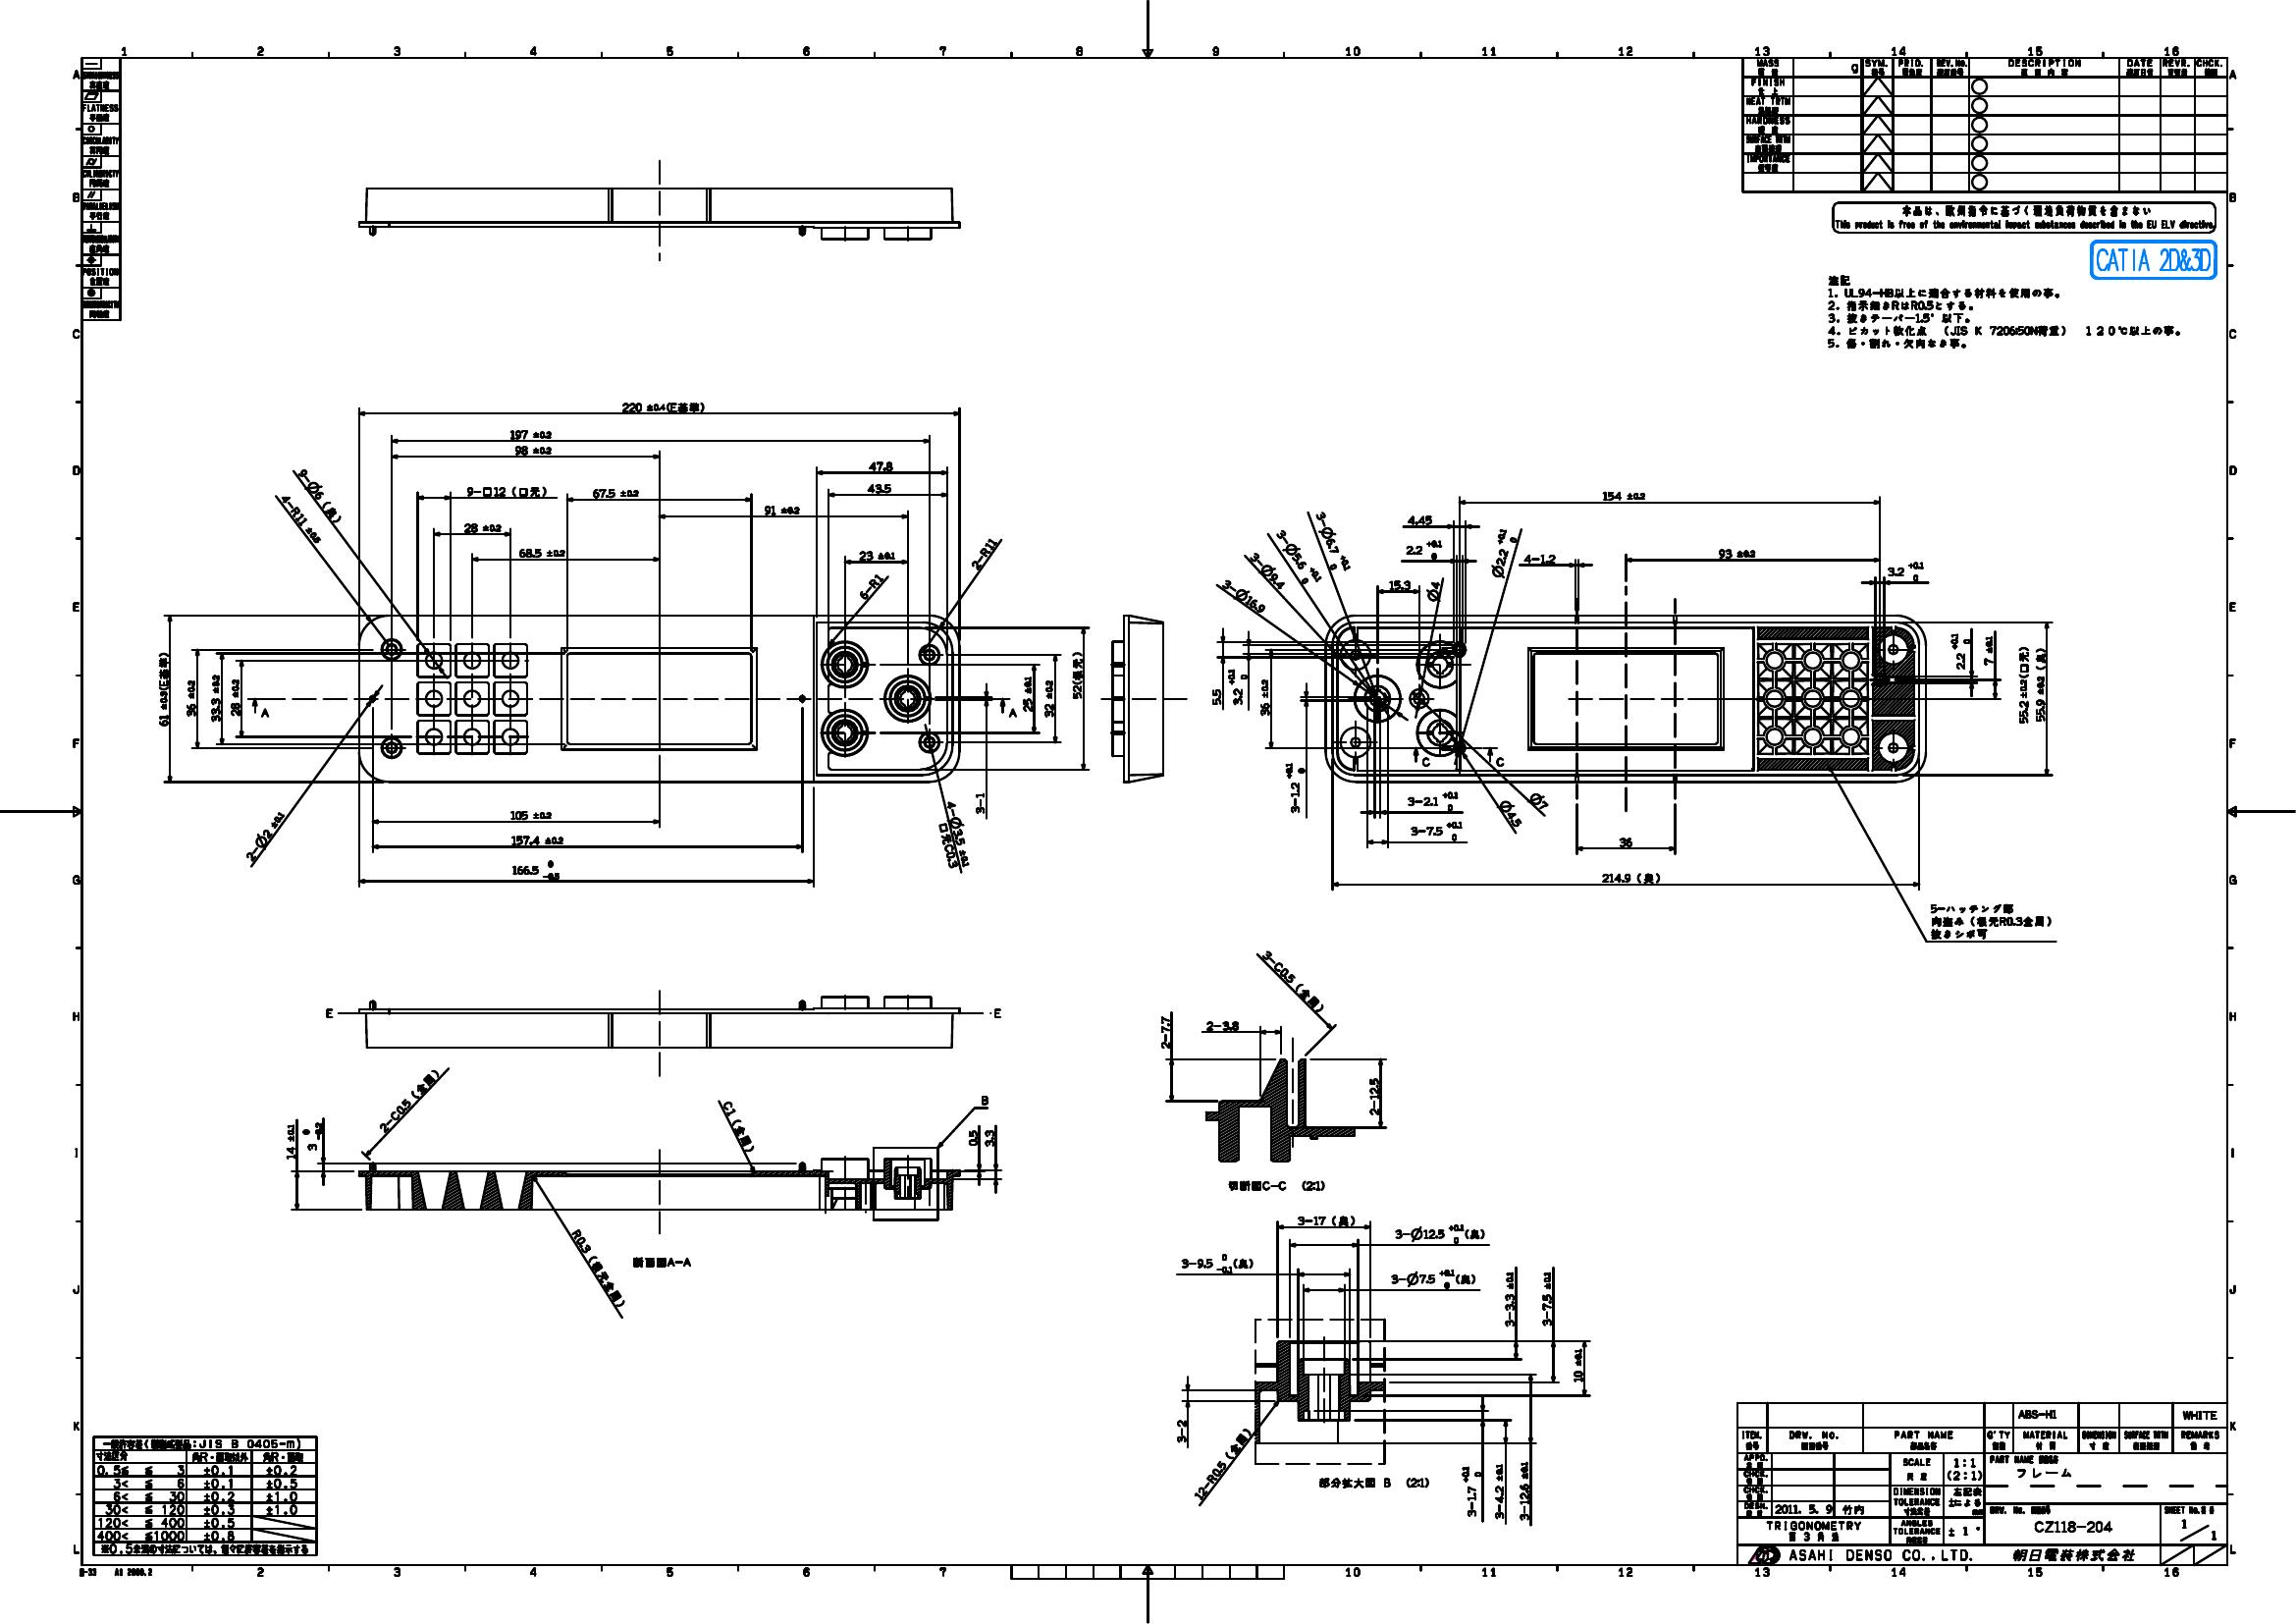anntotation_text: (1825, 272, 2182, 348), (1832, 199, 2219, 236), (2090, 237, 2217, 279), (1927, 902, 2055, 942), (1318, 1475, 1432, 1490), (1226, 1178, 1326, 1195), (629, 1257, 696, 1269), (1005, 705, 1019, 719), (258, 705, 271, 721), (989, 1007, 1005, 1019), (978, 1091, 991, 1107), (323, 1007, 337, 1019), (1493, 756, 1505, 768), (1419, 756, 1430, 768)
dimension_text: (1384, 1267, 1477, 1292), (1391, 1223, 1486, 1246), (1260, 543, 1332, 569), (1179, 1251, 1254, 1274), (1296, 533, 1367, 554), (1179, 1455, 1272, 1471), (1458, 1464, 1484, 1519), (365, 1093, 453, 1109), (155, 650, 172, 729), (462, 483, 548, 499), (618, 399, 704, 415), (550, 1260, 646, 1274), (1282, 759, 1307, 814), (1474, 541, 1528, 566), (2032, 645, 2048, 728), (2015, 643, 2031, 726), (286, 485, 353, 504), (508, 858, 562, 881), (1409, 819, 1463, 842), (1251, 972, 1335, 986), (1516, 1457, 1532, 1526), (1537, 1269, 1555, 1327), (1405, 791, 1458, 810), (1885, 559, 1925, 584), (926, 824, 996, 838), (1491, 1461, 1507, 1522), (1502, 1269, 1518, 1330), (1599, 870, 1660, 886), (206, 671, 223, 726), (708, 1118, 768, 1134), (588, 483, 641, 501), (1214, 589, 1272, 605), (1293, 1213, 1356, 1227), (513, 543, 569, 559), (1404, 538, 1442, 561), (235, 830, 297, 844), (271, 511, 332, 526), (1240, 559, 1289, 576), (1599, 487, 1648, 504), (511, 831, 566, 847), (1226, 666, 1247, 707), (1950, 629, 1969, 671), (1068, 650, 1084, 701), (506, 808, 555, 824), (506, 425, 553, 441), (183, 675, 199, 721), (299, 1120, 320, 1153), (227, 675, 242, 719), (1567, 1346, 1585, 1385), (281, 1123, 299, 1162), (762, 501, 801, 518), (1365, 1076, 1381, 1118), (924, 838, 971, 852), (1256, 675, 1272, 717), (1715, 545, 1757, 561), (850, 580, 891, 596), (856, 548, 898, 562), (963, 545, 1005, 559), (1042, 677, 1056, 719), (1495, 805, 1528, 823), (1158, 1014, 1173, 1051), (1022, 673, 1036, 714), (1205, 1018, 1240, 1033), (864, 457, 896, 475), (1173, 1417, 1191, 1446), (460, 522, 502, 534), (1980, 633, 1994, 668), (1521, 550, 1556, 564), (513, 443, 552, 455), (1527, 791, 1551, 808), (980, 1127, 998, 1149), (864, 482, 892, 496), (1405, 513, 1433, 527), (971, 789, 984, 816), (1616, 833, 1634, 851), (1209, 685, 1223, 707), (964, 1127, 977, 1148)
object: (357, 613, 963, 784), (1323, 613, 1927, 784), (357, 1155, 963, 1213), (357, 995, 961, 1049), (355, 188, 963, 241), (1203, 1058, 1356, 1162), (1254, 1338, 1384, 1446), (1108, 612, 1166, 784)
title_block: (1736, 1401, 2231, 1568), (1739, 56, 2227, 195), (90, 1434, 320, 1559), (79, 54, 121, 322)
